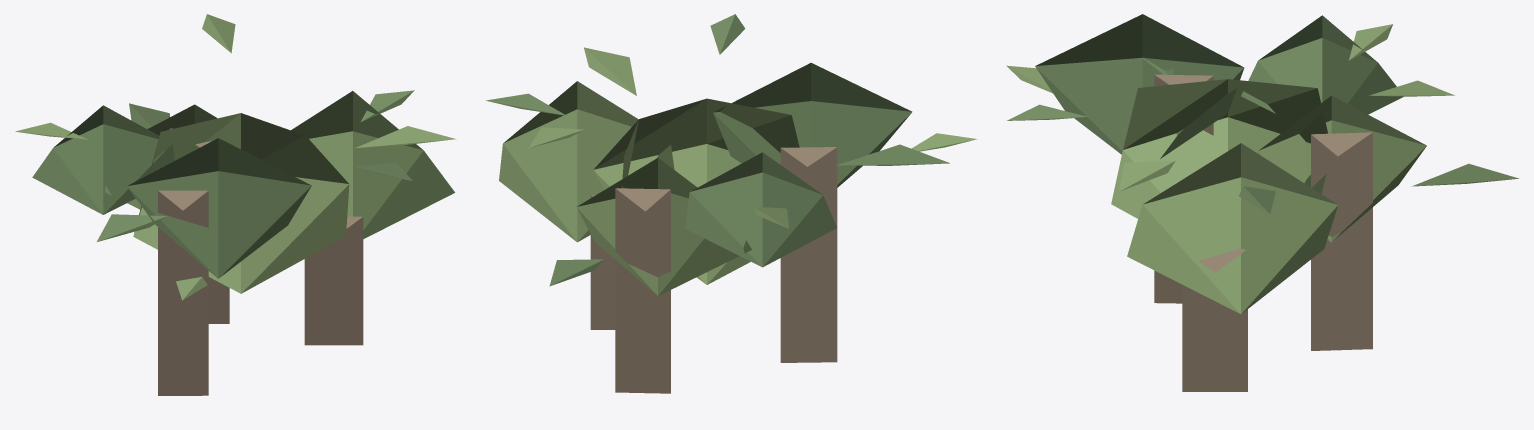
The model's file is hua.ju@subadult__summer.glb.
The picture shows the model from 3 angles, left to right: view 1: azimuth 30°, elevation 25°; view 2: azimuth 150°, elevation 25°; view 3: azimuth 270°, elevation 25°; orthographic projection. The views are drawn at different scales.
Parts seen in each view (by area): view 1: hua.ju@subadult__summer; view 2: hua.ju@subadult__summer; view 3: hua.ju@subadult__summer.
Boxes of the visible parts, left/top/right/bottom form: hua.ju@subadult__summer: left=15, top=14, right=456, bottom=395; hua.ju@subadult__summer: left=486, top=14, right=977, bottom=393; hua.ju@subadult__summer: left=1006, top=14, right=1518, bottom=391.
Size of the model in its own units: 0.6846 by 0.471 by 0.718.
